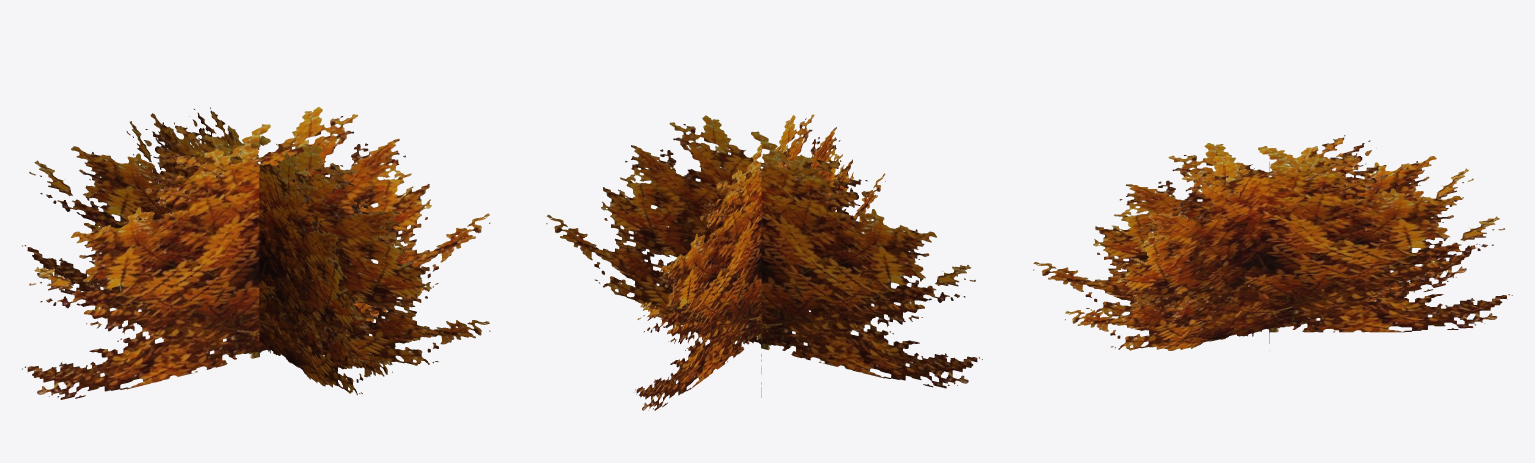
The model's file is Bush.fbx.
3 renders of one model, left to right at view 1: azimuth 30°, elevation 25°; view 2: azimuth 150°, elevation 25°; view 3: azimuth 270°, elevation 25°, orthographic. The views are drawn at different scales.
Visible parts, largest first — view 1: Plane.010, Plane.011, Plane.009; view 2: Plane.010, Plane.009; view 3: Plane.009, Plane.011.
Part boxes in pixels (bbox=[...]): Plane.010: bbox=[22, 107, 490, 399]; Plane.011: bbox=[22, 122, 490, 365]; Plane.009: bbox=[126, 107, 392, 395]; Plane.010: bbox=[546, 115, 982, 388]; Plane.009: bbox=[633, 114, 885, 410]; Plane.009: bbox=[1033, 143, 1512, 332]; Plane.011: bbox=[1065, 135, 1479, 350].
Size of the model in its own units: 2794 by 1367 by 2794.
